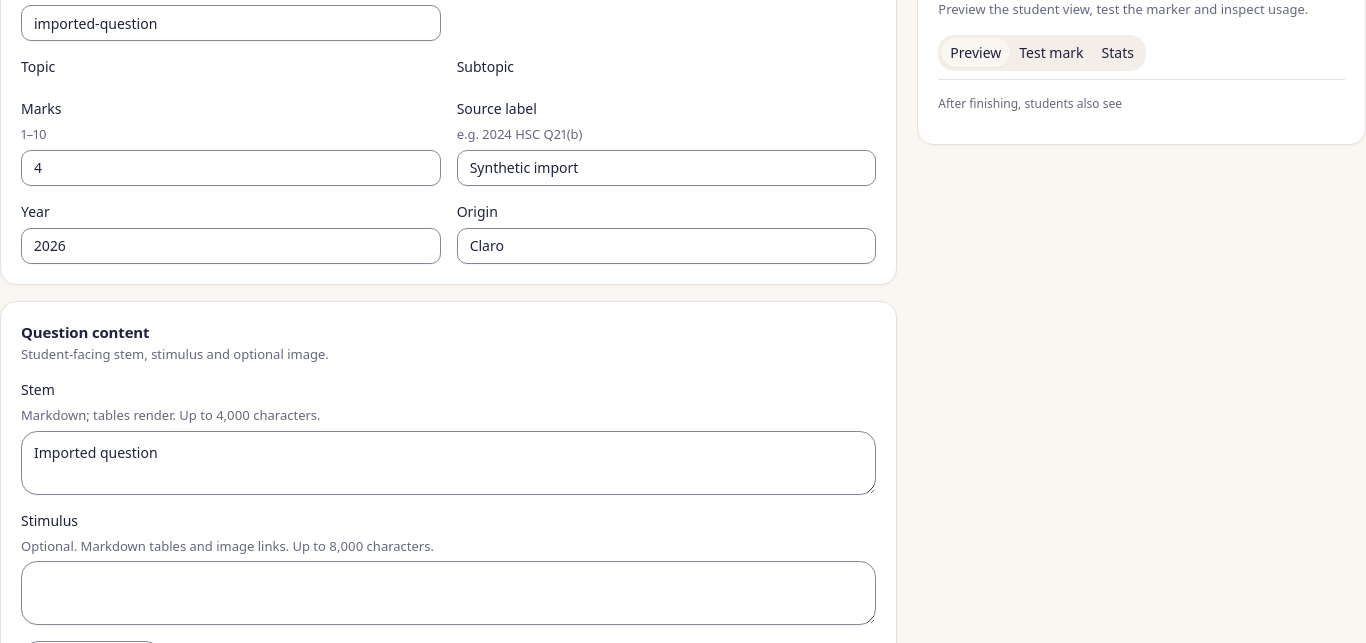
keeps a pristine question unsaved and hides validation until a save attempt
The width and height of the screenshot is (1366, 643).
Replace the text in the text box labelled "Stem" with "Explain inflation". click: coordinates (449, 463)
box: 21,431 -> 876,495
(page scrolled)
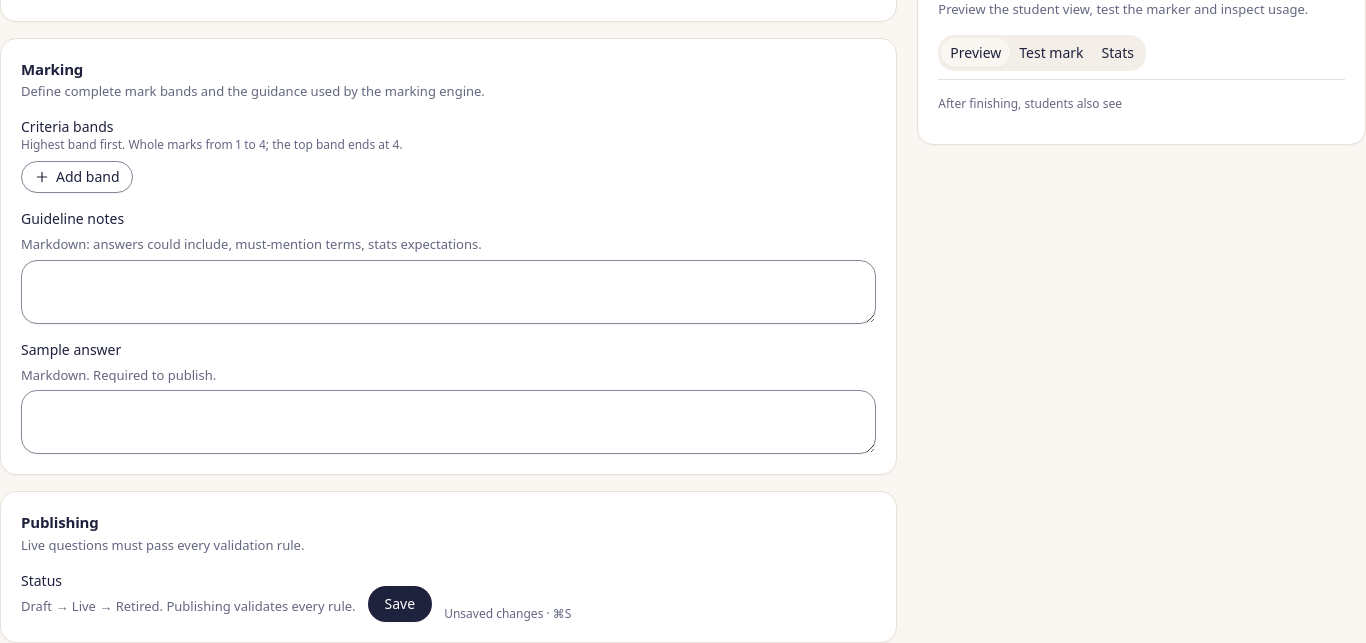
Expected: the text "Add at least one band." is not shown
Expected: the text "Unsaved changes · ⌘S" is shown, 444,606 -> 571,622
Press s
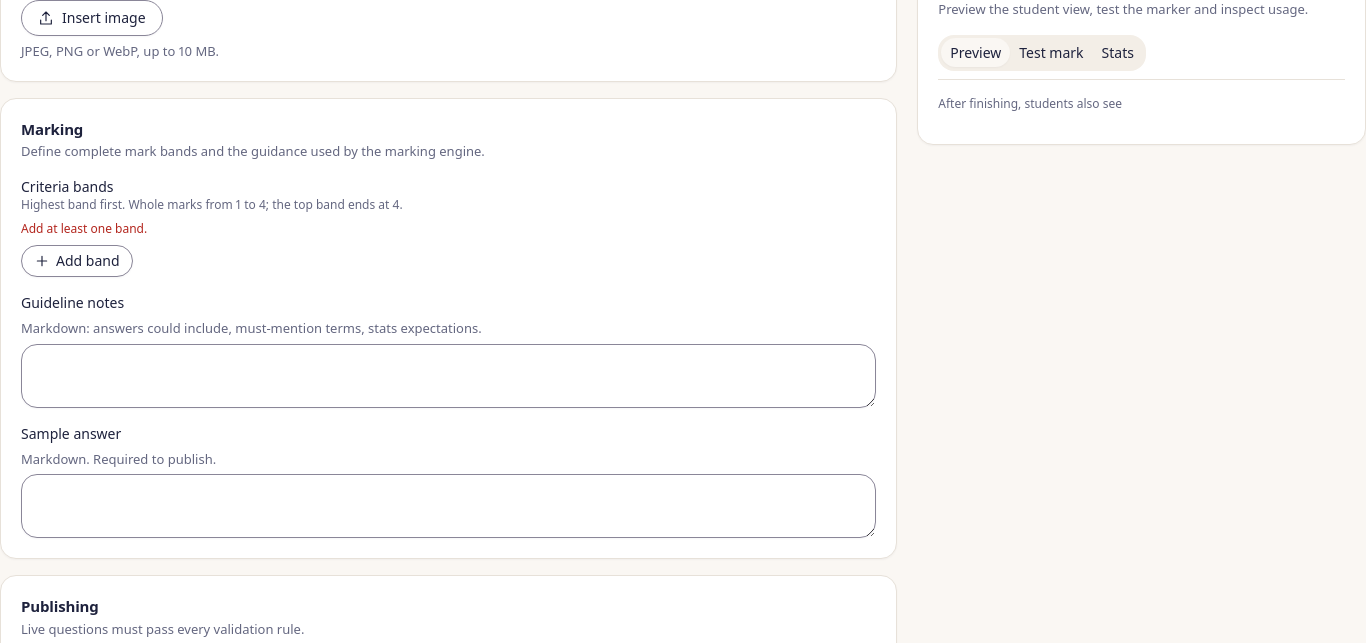
Expected: the text "Add at least one band." is shown, 21,220 -> 147,237
